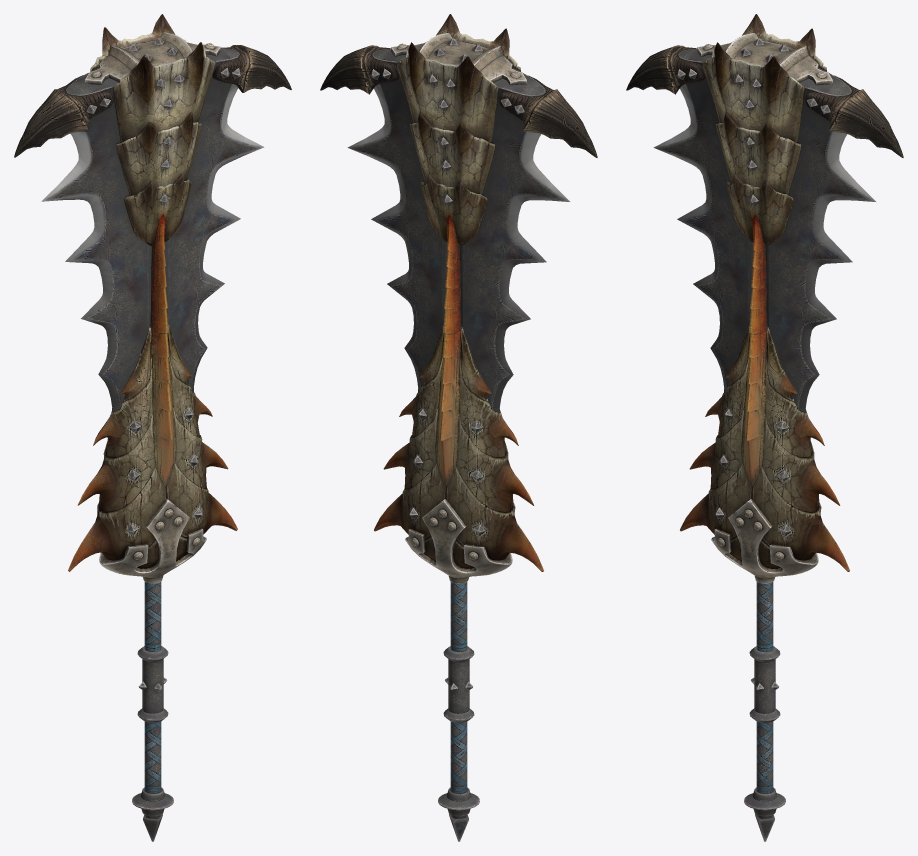
File: two011.obj
3 views of the same model, side by side, from view 1: azimuth 30°, elevation 25°; view 2: azimuth 150°, elevation 25°; view 3: azimuth 330°, elevation 25° (orthographic).
Visible parts, largest first — view 1: two011_000_LOD_1; view 2: two011_000_LOD_1; view 3: two011_000_LOD_1.
Boxes of the visible parts, x1,y1,x2,y2 form: two011_000_LOD_1: (14,14,291,841); two011_000_LOD_1: (320,14,597,841); two011_000_LOD_1: (626,14,903,841).
Bounding box in the file's own units: 102 × 283 × 27.32.
